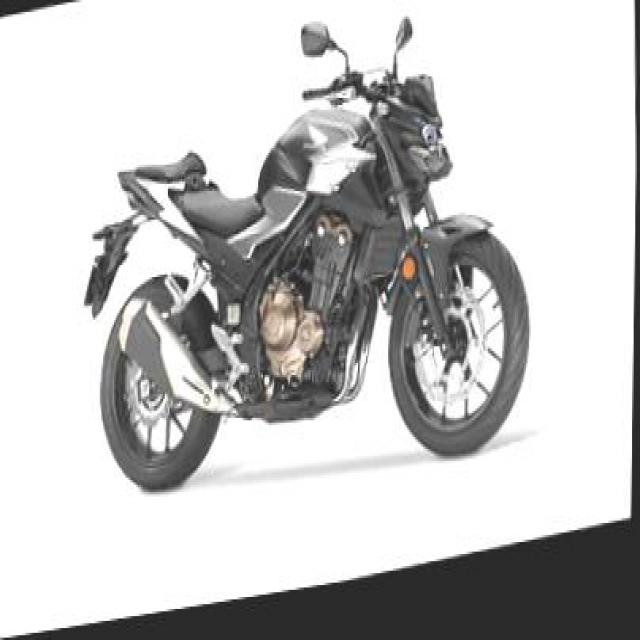CB500F: (72, 0, 542, 545)
